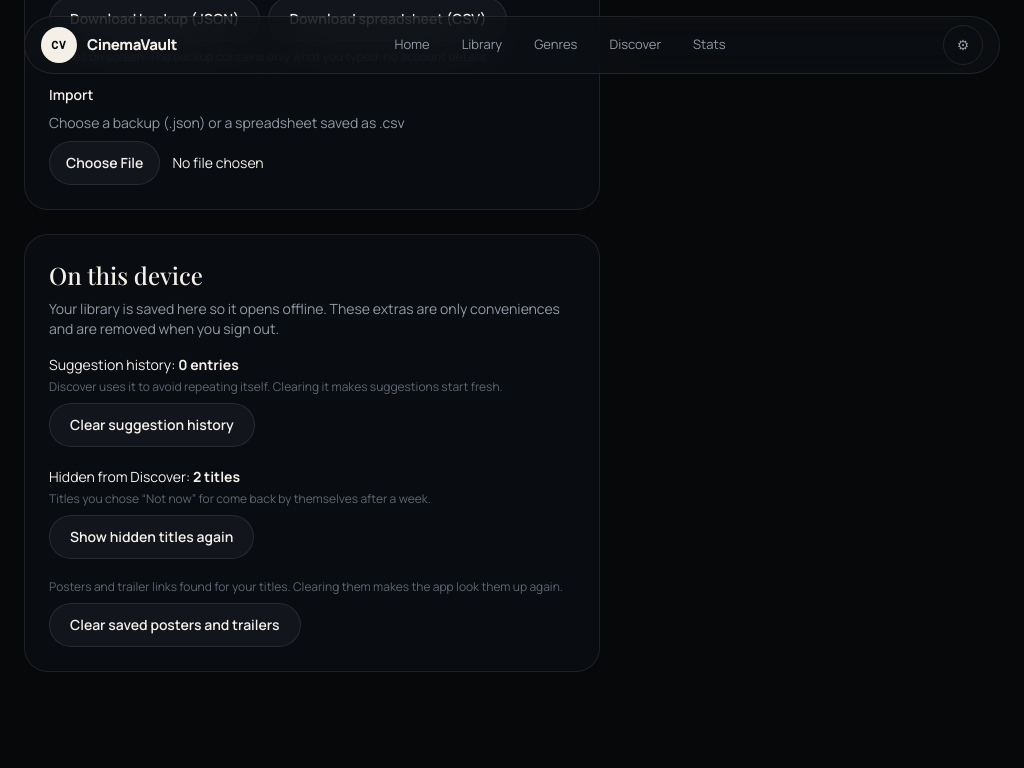
it: on this device › shows how many titles are hidden from Discover and brings them back
(page scrolled)
expect the text "2 titles" is shown: met, box [193, 467, 240, 486]
Step 1. Click the button "Show hidden titles again" → point(152, 537), box [49, 515, 254, 559]
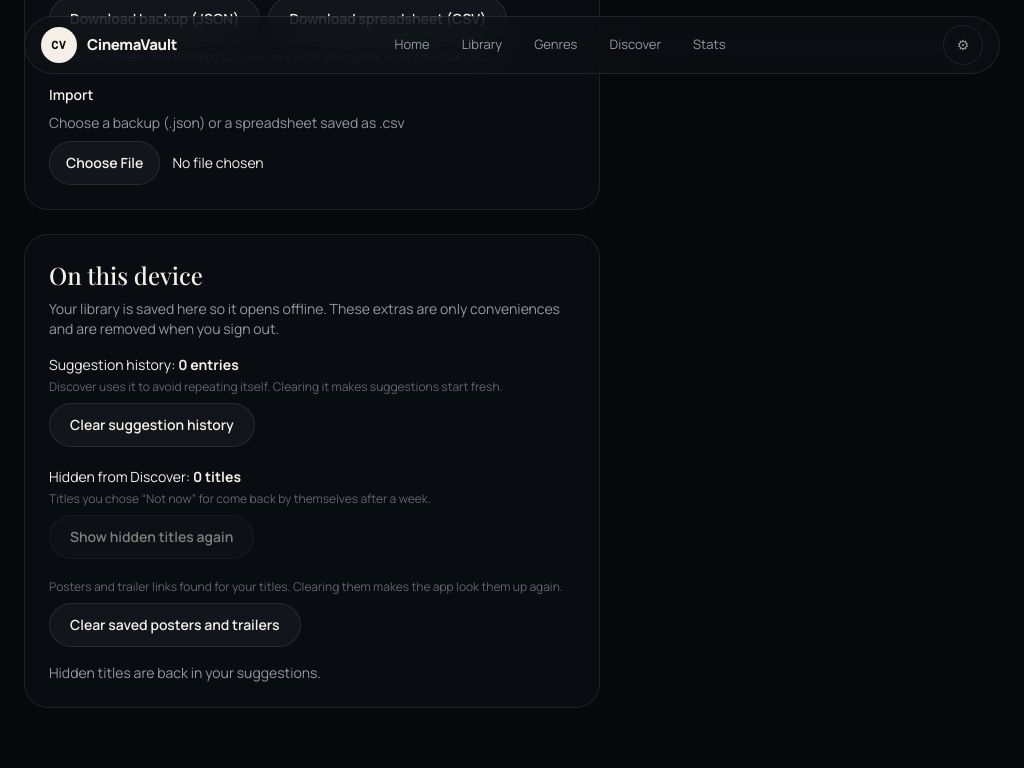
expect the text "Hidden titles are back in your suggestions." is shown: met, box [49, 663, 321, 682]
expect the text "0 titles" is shown: met, box [193, 467, 241, 486]
expect the button "Show hidden titles again" is disabled: met, box [49, 515, 254, 559]
